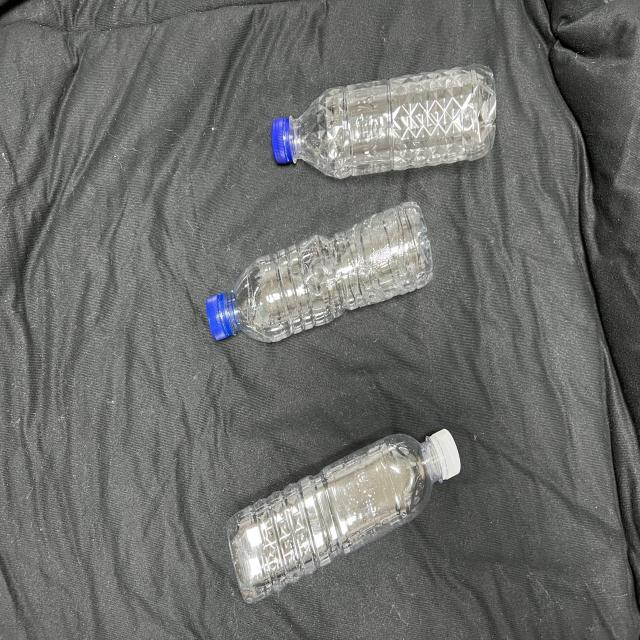good: (221, 403, 474, 615), (186, 185, 449, 373), (263, 56, 506, 189)
